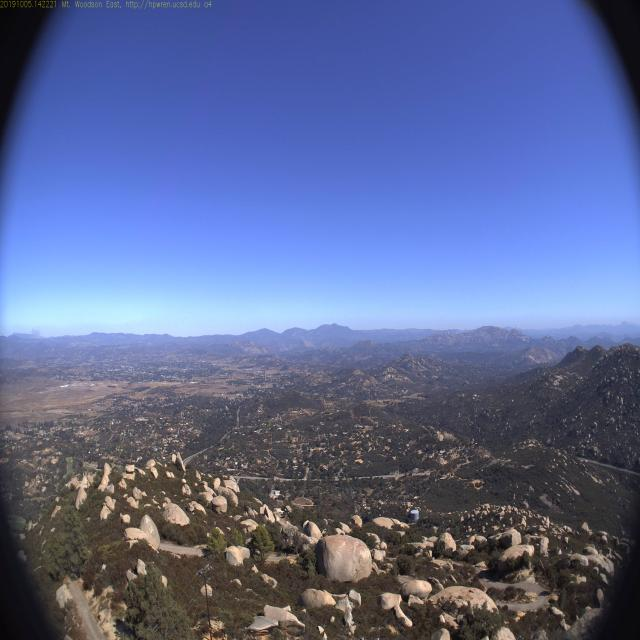smoke: (29, 325, 43, 339)
